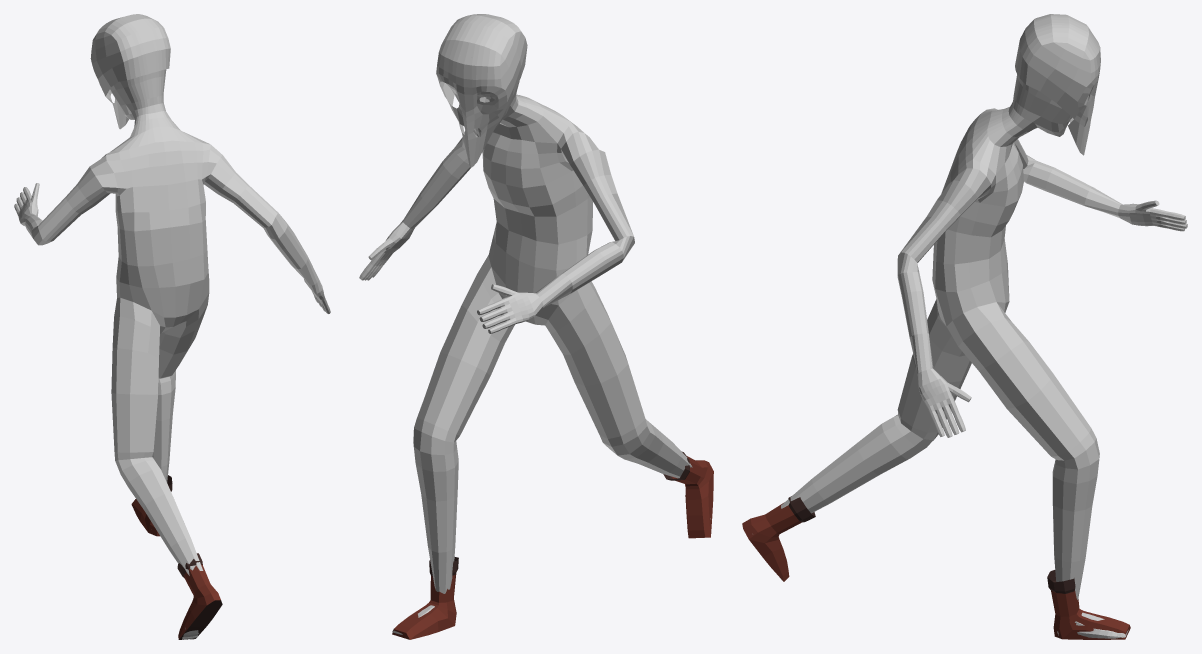
Rendered from marcha5_000055.obj.
3 views of the same model, side by side, from view 1: azimuth 30°, elevation 25°; view 2: azimuth 150°, elevation 25°; view 3: azimuth 270°, elevation 25° (orthographic). The views are drawn at different scales.
Visible parts, largest first — view 1: Plane.002_Plane.001, Plane.004; view 2: Plane.002_Plane.001, Plane.004, Plane.003; view 3: Plane.002_Plane.001, Plane.004, Plane.003.
Part boxes in pixels (x1,y1,x2,y2): Plane.002_Plane.001: [14, 14, 330, 639]; Plane.004: [177, 553, 222, 639]; Plane.002_Plane.001: [359, 14, 710, 634]; Plane.004: [663, 451, 713, 538]; Plane.003: [392, 557, 458, 639]; Plane.002_Plane.001: [781, 14, 1187, 638]; Plane.004: [742, 496, 815, 581]; Plane.003: [1047, 570, 1130, 639].
Size of the model in its own units: 3.38 by 6.51 by 4.39.
